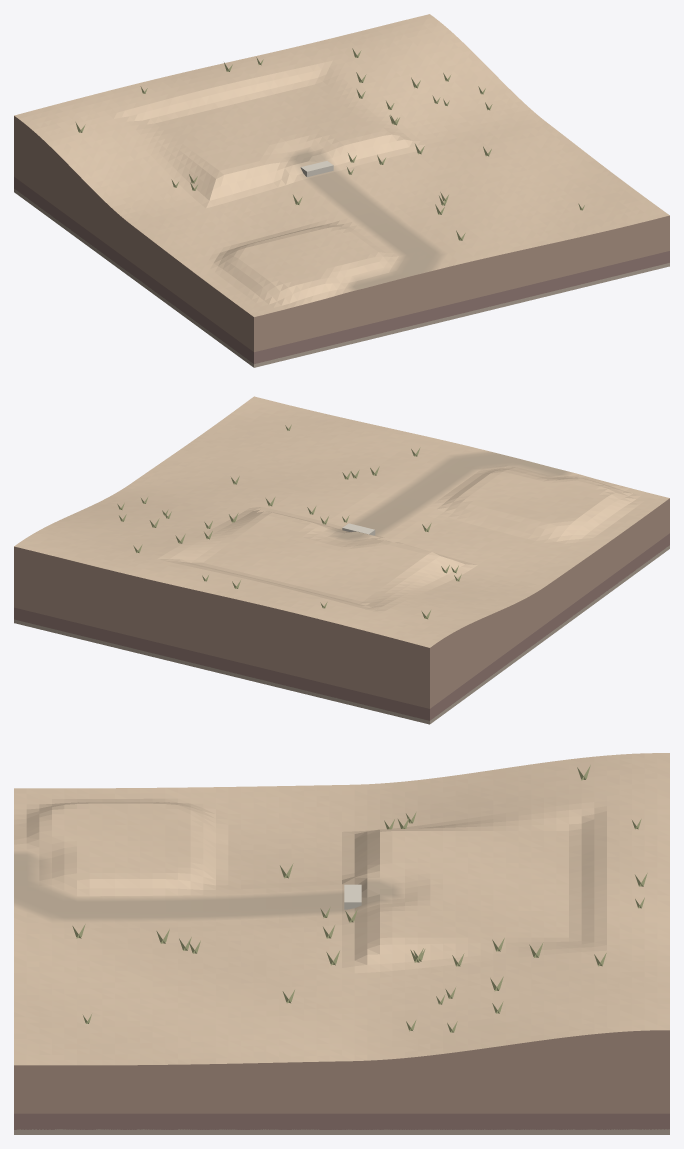
Rendered from J218_proc.glb.
The picture shows the model from 3 angles, top to bottom: view 1: azimuth 30°, elevation 25°; view 2: azimuth 150°, elevation 25°; view 3: azimuth 270°, elevation 25°; orthographic projection. The views are drawn at different scales.
Parts seen in each view (by area): view 1: proc_ground, proc_skirt, proc_grass; view 2: proc_ground, proc_skirt, proc_grass; view 3: proc_ground, proc_skirt, proc_grass.
Part boxes in pixels (x1,y1,x2,y2): proc_ground: (14,14,669,316); proc_skirt: (14,116,669,367); proc_grass: (75,48,584,240); proc_ground: (14,396,669,647); proc_skirt: (14,498,669,724); proc_grass: (117,424,461,619); proc_ground: (14,753,669,1065); proc_skirt: (14,1030,669,1134); proc_grass: (72,765,647,1032).
Bounding box in the file's own units: 8 × 1.61 × 8.
